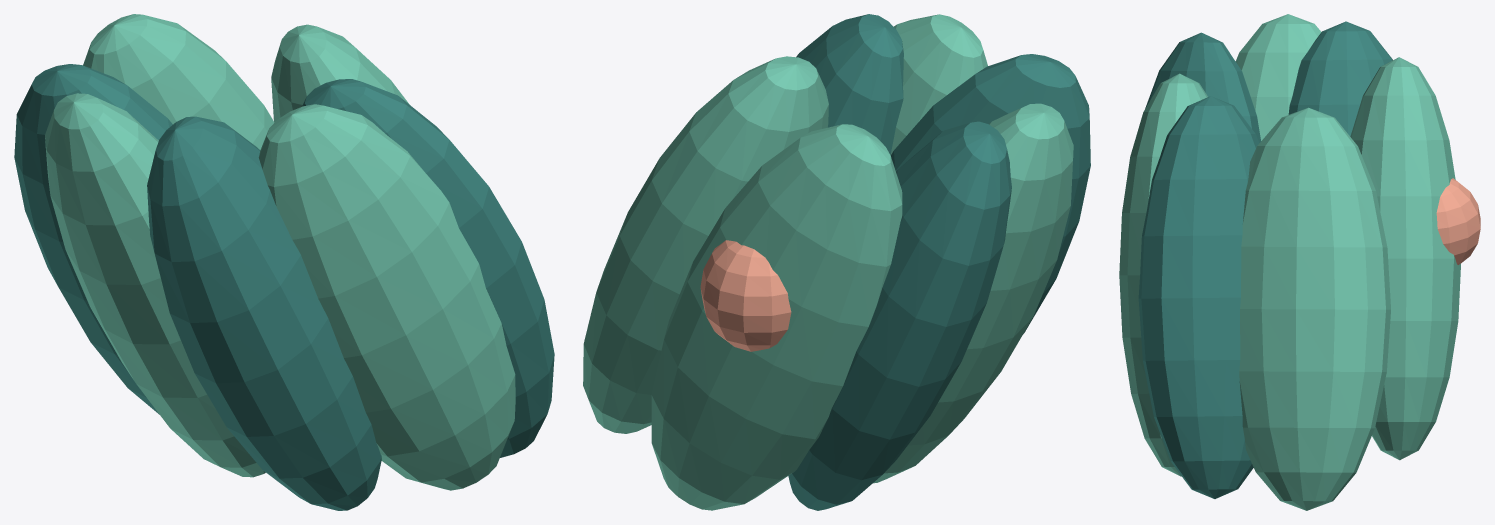
The model's file is Rounded_garden_foliage.obj.
3 views of the same model, side by side, from view 1: azimuth 30°, elevation 25°; view 2: azimuth 150°, elevation 25°; view 3: azimuth 270°, elevation 25° (orthographic). The views are drawn at different scales.
Parts seen in each view (by area): view 1: Wax_leaf; view 2: Wax_leaf, Little_berry; view 3: Wax_leaf, Little_berry.
Part boxes in pixels (x1,y1,x2,y2): Wax_leaf: (14, 14, 554, 510); Wax_leaf: (583, 14, 1090, 510); Little_berry: (700, 240, 791, 351); Wax_leaf: (1119, 14, 1460, 510); Little_berry: (1436, 178, 1480, 264).
Size of the model in its own units: 1.37 by 1.19 by 1.16.
